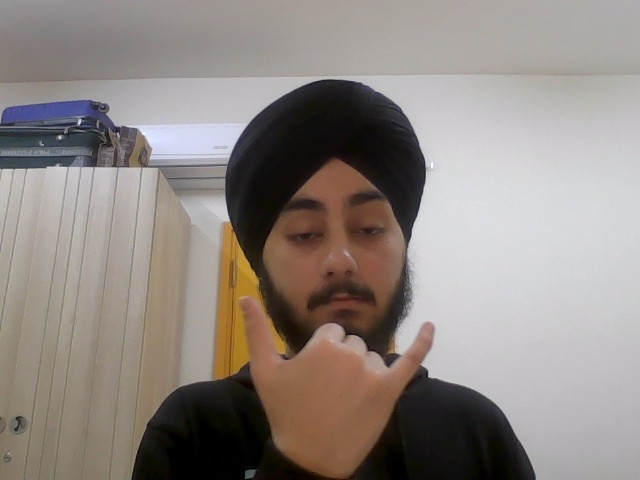Wrong: (234, 295, 447, 475)
